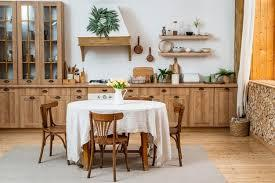chair: (86, 110, 129, 179), (37, 100, 67, 165), (126, 91, 158, 147), (167, 100, 185, 168)
table: (66, 101, 166, 169)
